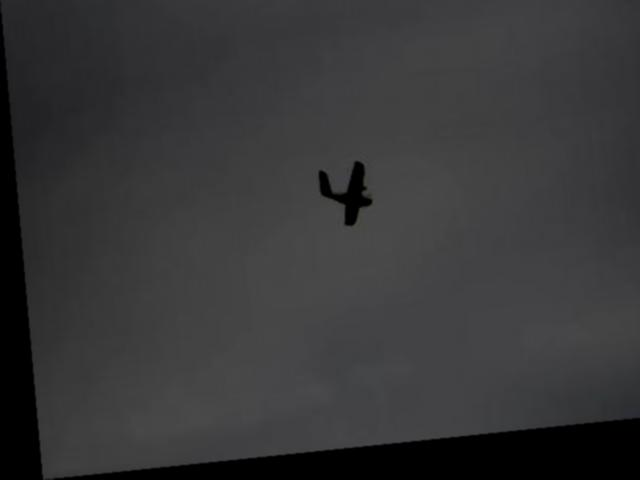uav: (301, 158, 378, 242)
